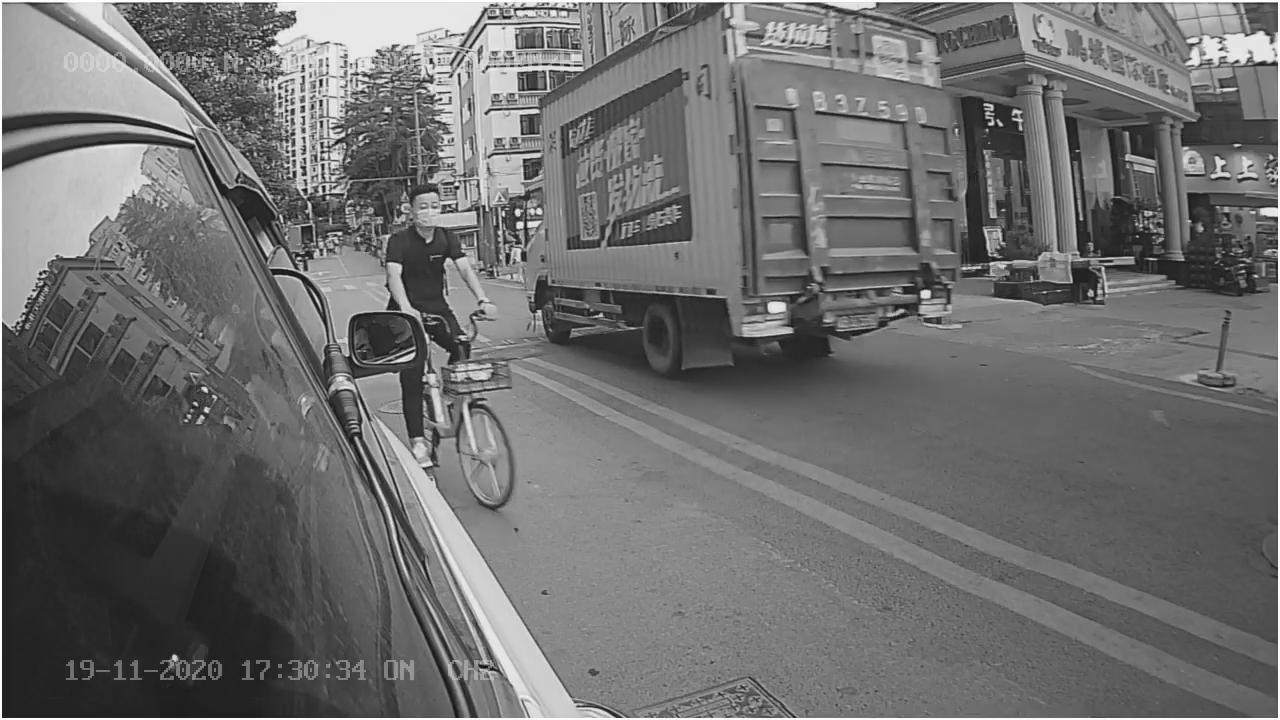person: (380, 179, 480, 305)
